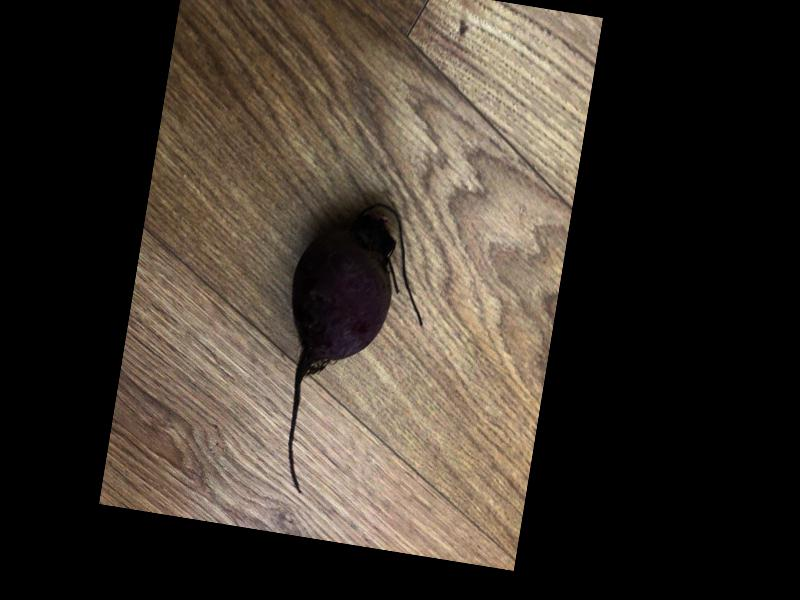Beet: (258, 192, 440, 509)
